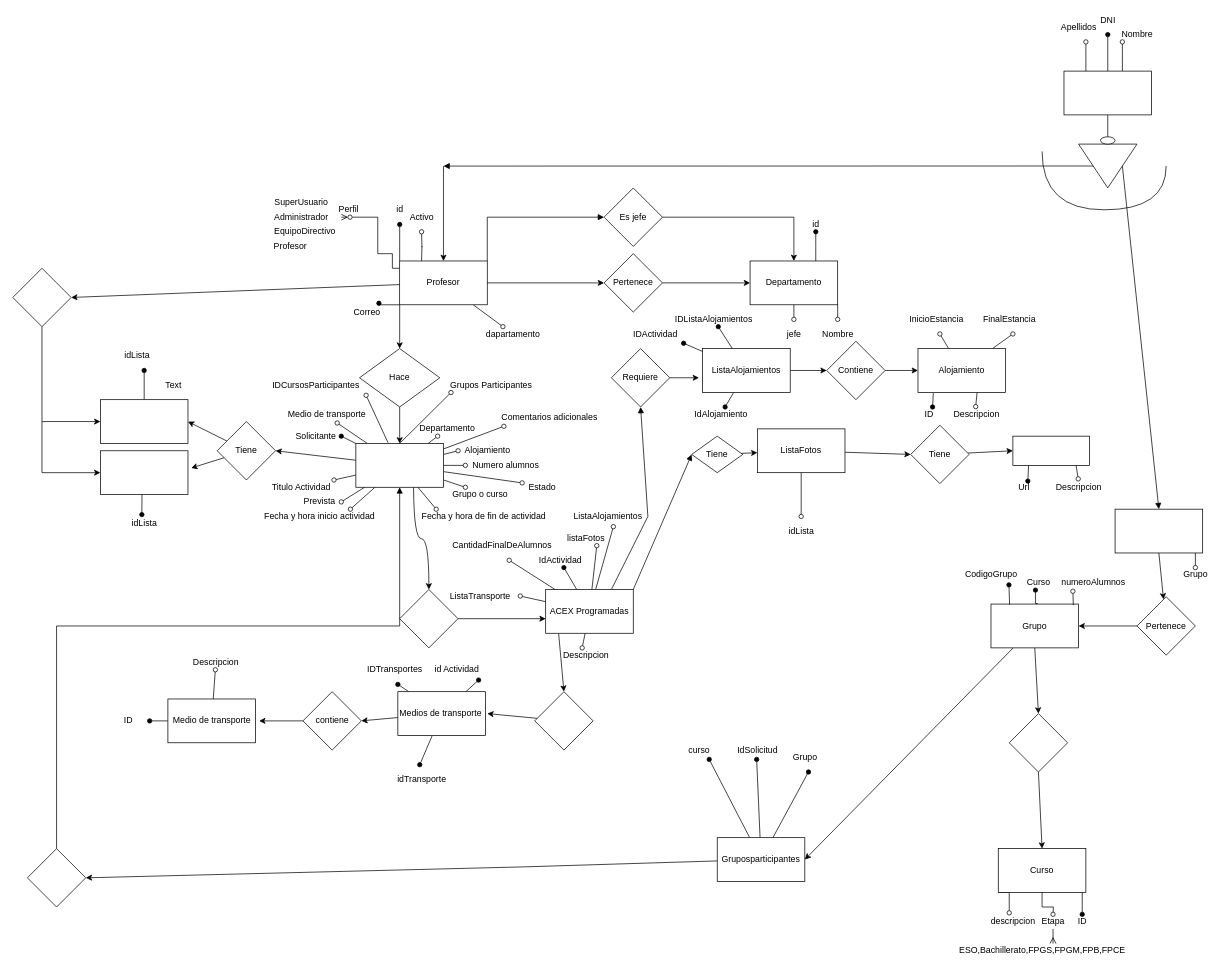
Image size: 1226x971. Some labels were removed from this diagram. Each missing label, with the centre of its shape:
Alumno: point (1158, 530)
Compone: point (1038, 742)
EstaIncluido: point (41, 297)
Fotos: point (1051, 450)
Participa: point (56, 877)
Persona: point (1107, 92)
Procede: point (428, 618)
Profesores participantes: point (144, 421)
Profesores responsables: point (144, 472)
Solicitud: point (399, 465)
Usa: point (563, 720)
